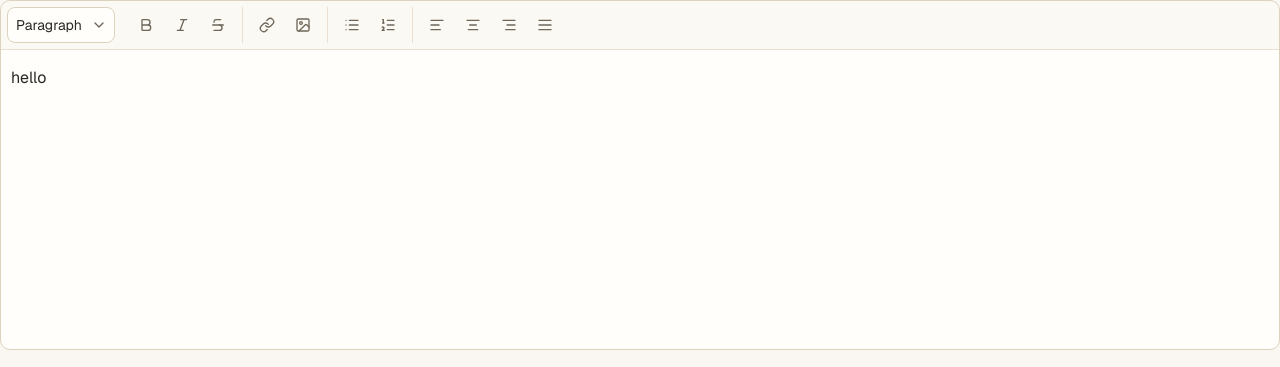
Tiptap toolbar › opens the link panel from the link button and closes it again
This screenshot has width=1280, height=367.
What coordinates should you click on to do the following:
click the button named "Add or edit a link"
I would click on:
 (267, 25)
Its box is [249,7,285,43].
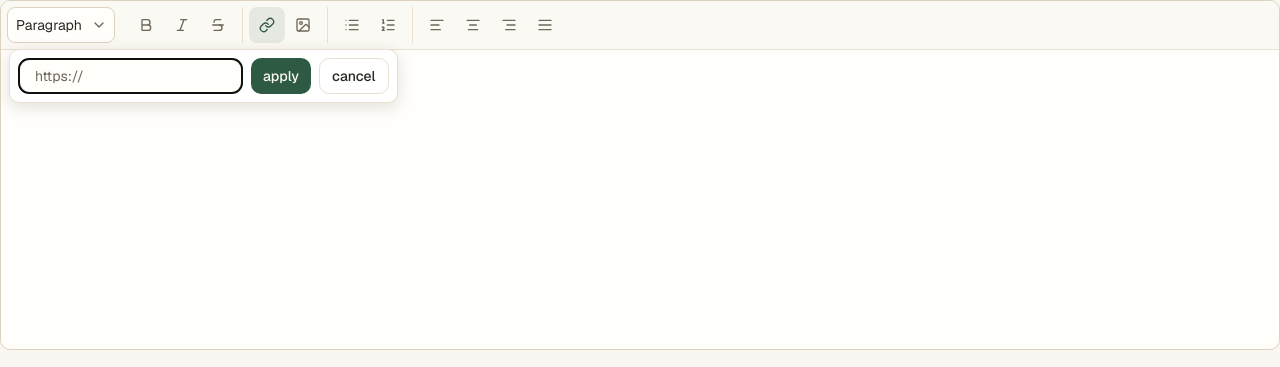
expect the field named "link url" is shown: met, box [18,58,243,94]
expect the button named "Add or edit a link" is expanded: met
What coordinates should you click on to do the following:
click the button named "Add or edit a link"
I would click on:
 (267, 25)
Its box is [249,7,285,43].
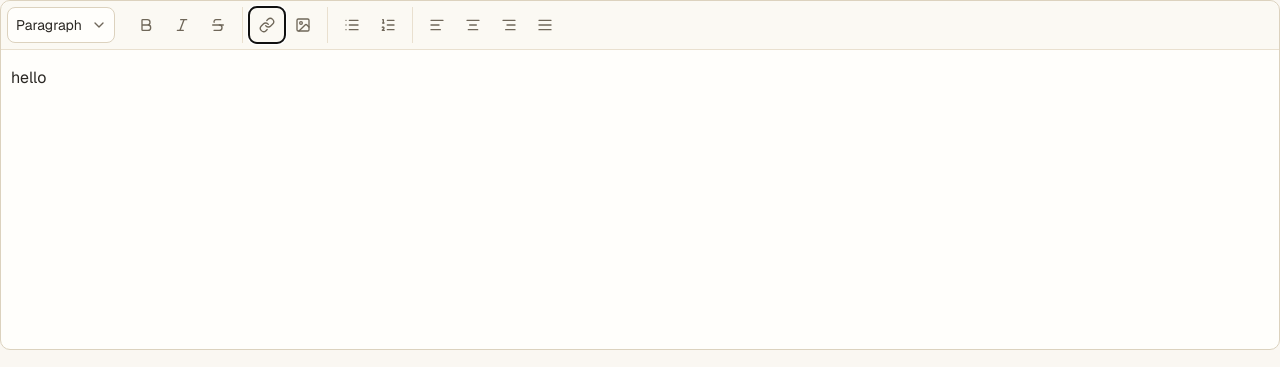
expect the button named "Add or edit a link" is collapsed: met, box [249,7,285,43]
